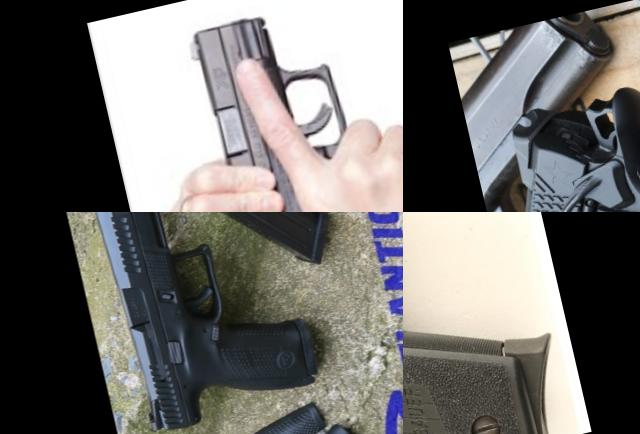handgun: (77, 212, 330, 434), (403, 212, 640, 434), (177, 0, 403, 212), (465, 25, 640, 212)
